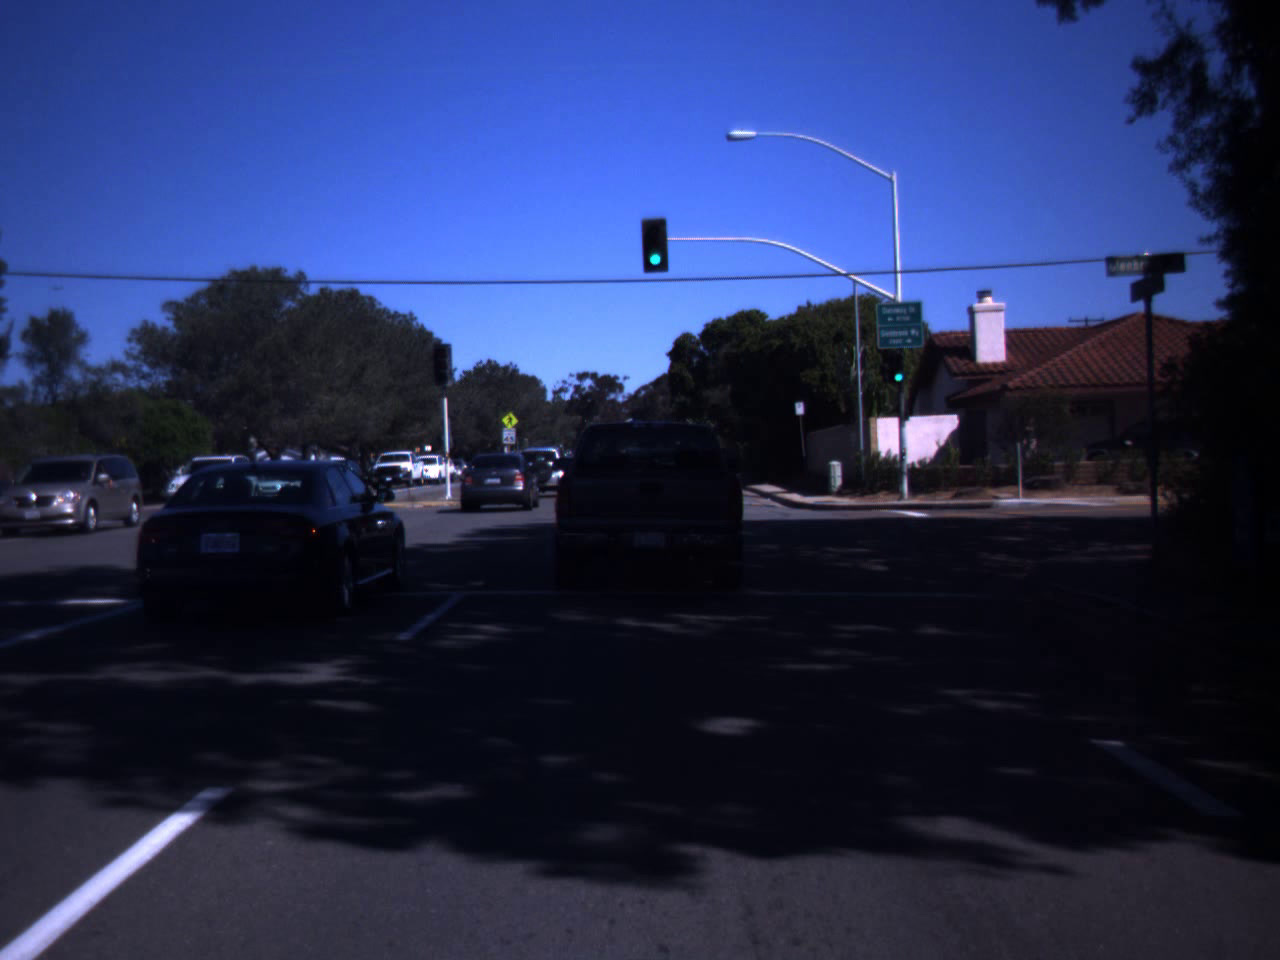go: (640, 223, 670, 268), (890, 357, 908, 382)
